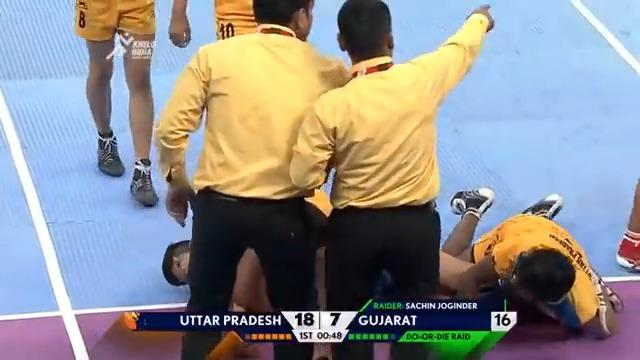Player: (438, 186, 622, 340), (72, 0, 190, 206)
referee: (288, 0, 495, 358), (153, 0, 351, 358)
